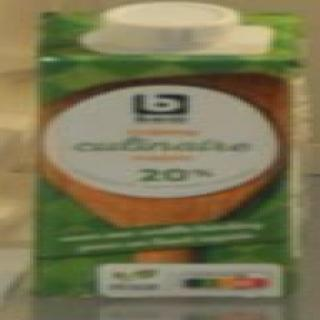cream: (3, 1, 320, 320)
